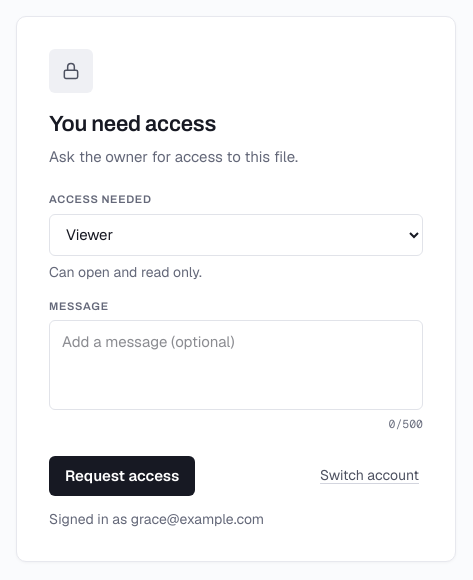
Test: RequestAccess › sends no note when none was written, at Viewer by default
The width and height of the screenshot is (473, 580).
Click the button "Request access" at (122, 476), box [49,456,195,496]
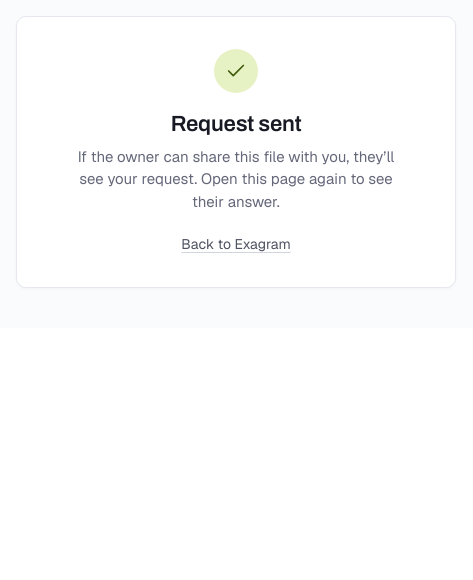
expect the heading "Request sent" is shown: met, box [171,112,301,136]
